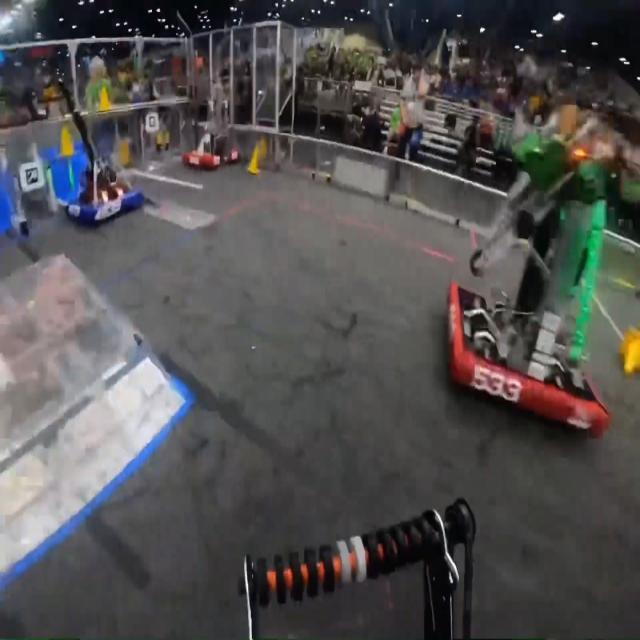robot: (446, 125, 618, 441), (58, 79, 144, 228), (181, 114, 241, 171)
